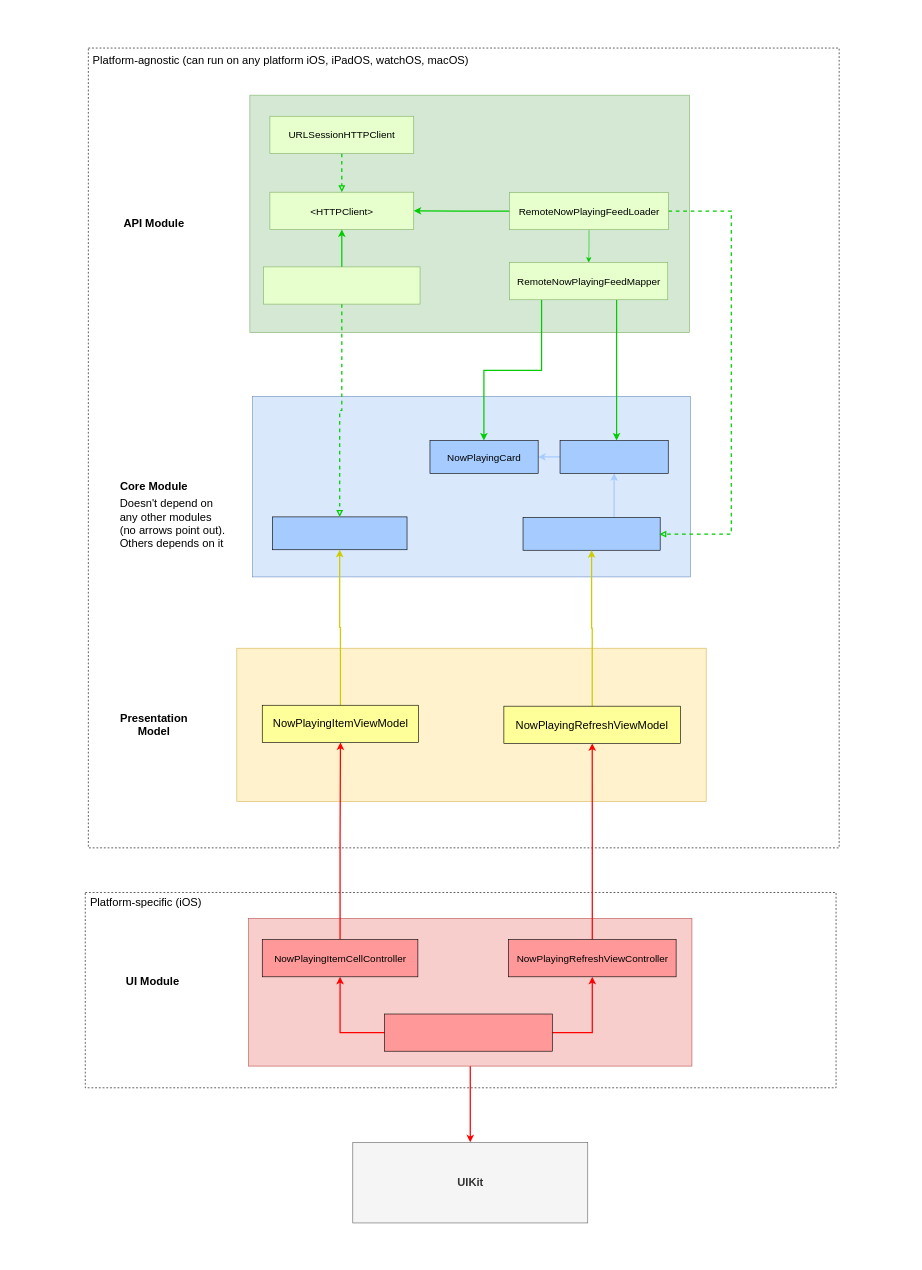
This 922x1270 diagram has some shape labels left out. The centre of each missing label's shape, as x and y in pixels:
"<MovieImageDataLoader>" belongs at point (339, 533).
"<NowPlayingFeedLoader>" belongs at point (591, 533).
"NowPlayingFeed" belongs at point (613, 456).
"NowPlayingFeedViewController" belongs at point (468, 1032).
"RemoteMovieImageDataLoader" belongs at point (341, 285).
